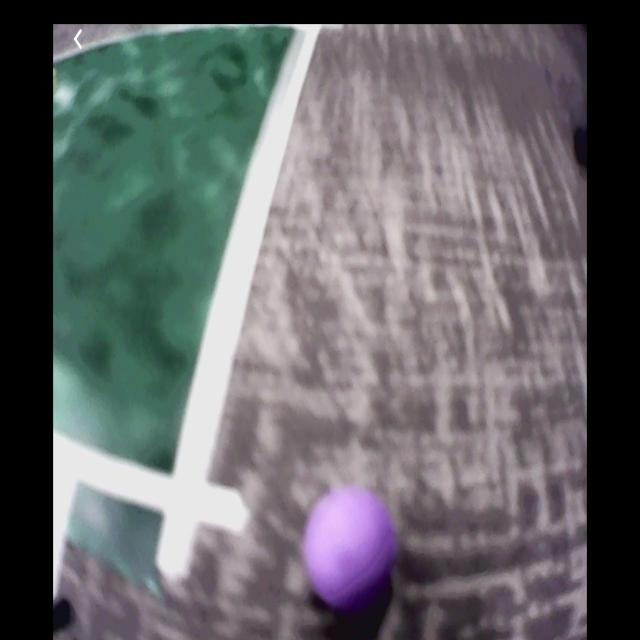ball: (308, 490, 396, 606)
